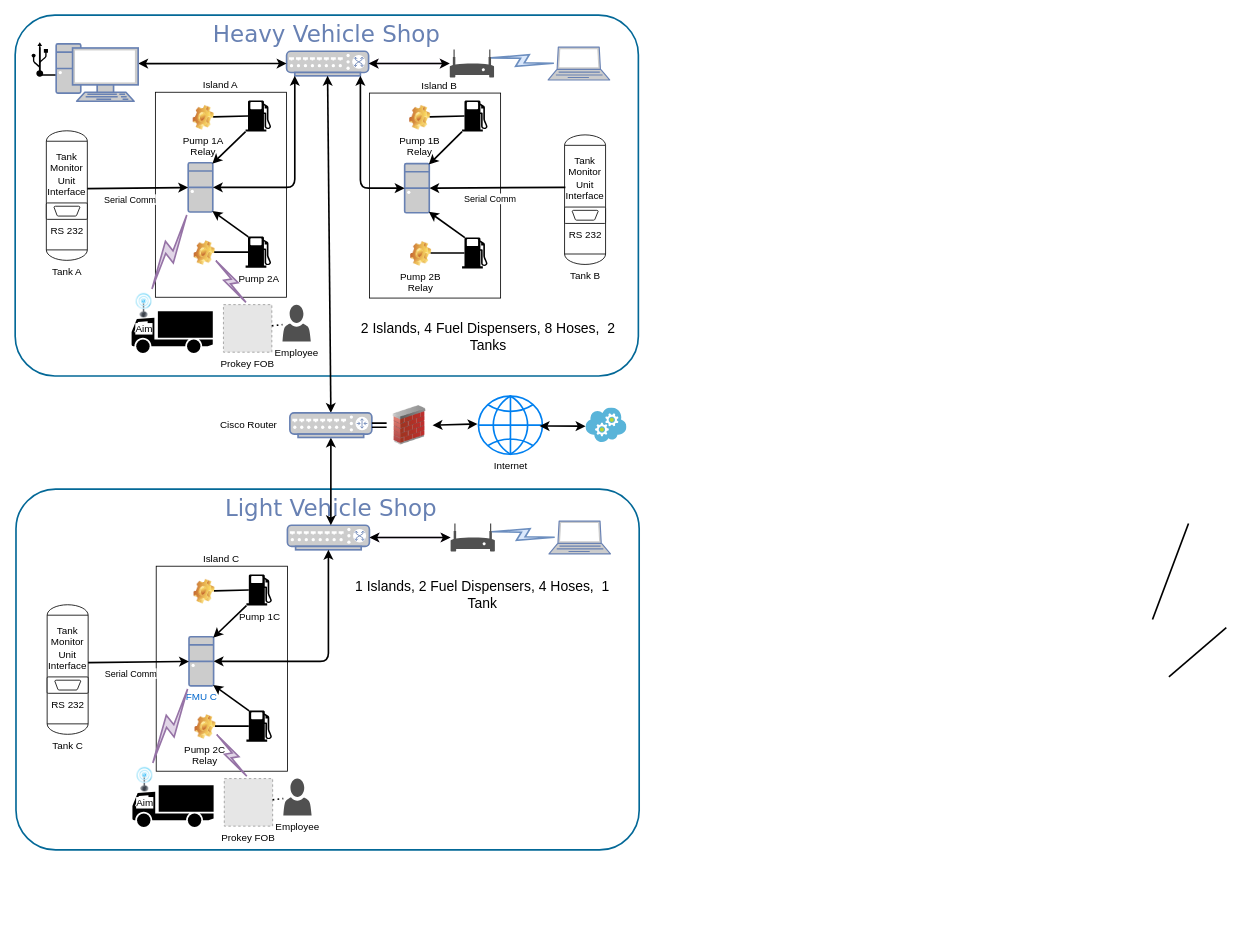
This 1241x940 diagram has some shape labels left out. Grey dashed boxes stand in for pictures. The shapes that lost their labels are listed below. From the top down, each one's centre as x and y in pixels, then its label:
At (97,72): "PROKEE Encoder".
At (258,115): "Pump 1A".
At (474,115): "Pump 1B".
At (200,187): "FMU A".
At (416,187): "FMU B".
At (203,251): "Pump 2A Relay".
At (474,252): "Pump 2B".
At (409,424): "KCG Firewall".
At (605,425): "FMLive".
At (203,590): "Pump 1C Relay".
At (258,725): "Pump 2C".
